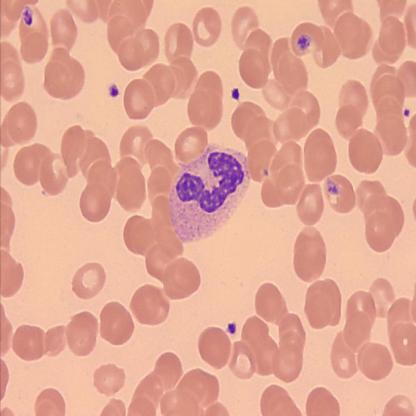Band Neutrophil: (167, 142, 252, 244)
